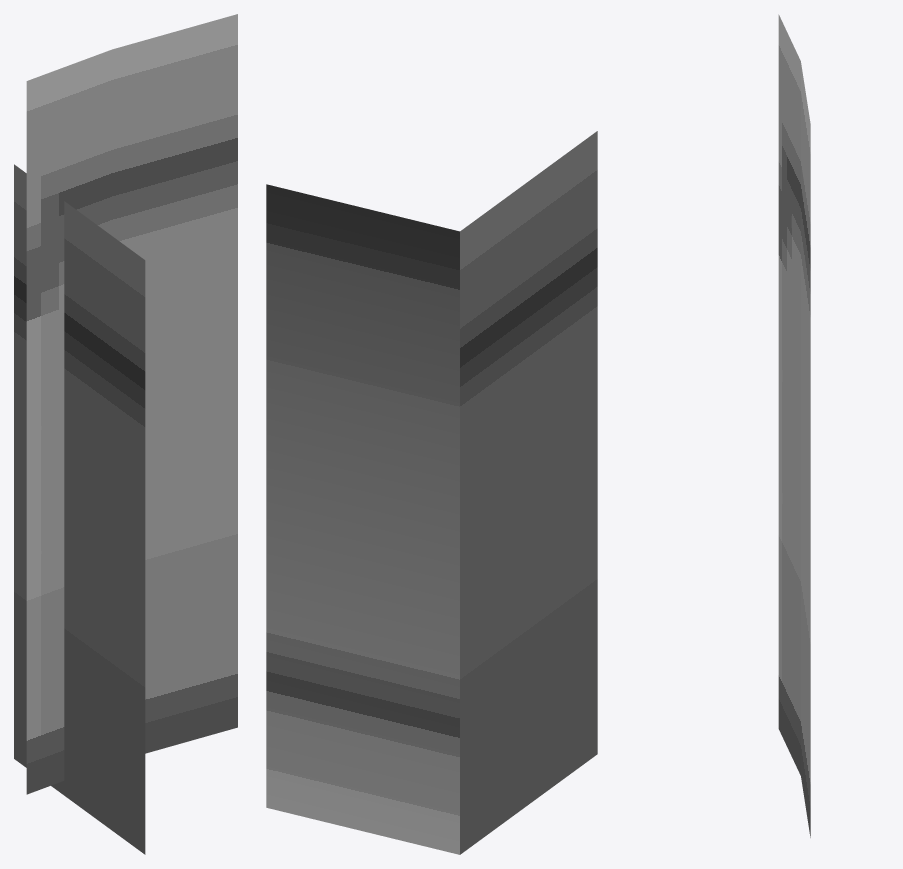
3 renders of one model, left to right at view 1: azimuth 30°, elevation 25°; view 2: azimuth 150°, elevation 25°; view 3: azimuth 270°, elevation 25°, orthographic. The views are drawn at different scales.
Size of the model in its own units: 1 by 3.06 by 1.
2 materials, 2 textured.
